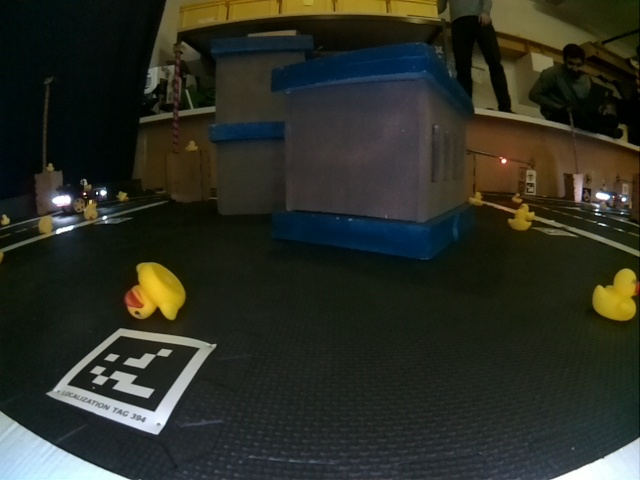Duckie: (127, 262, 185, 319), (593, 269, 637, 318), (508, 211, 530, 230), (38, 216, 53, 233), (83, 204, 98, 221), (471, 194, 483, 205), (0, 214, 10, 226), (185, 141, 197, 151)
Duckiebot: (52, 184, 107, 213)
Intersection sign: (526, 171, 535, 181)
QR code: (46, 331, 216, 434), (535, 227, 577, 237), (526, 184, 537, 194), (584, 188, 592, 201)
Traffic light: (499, 157, 508, 167)
